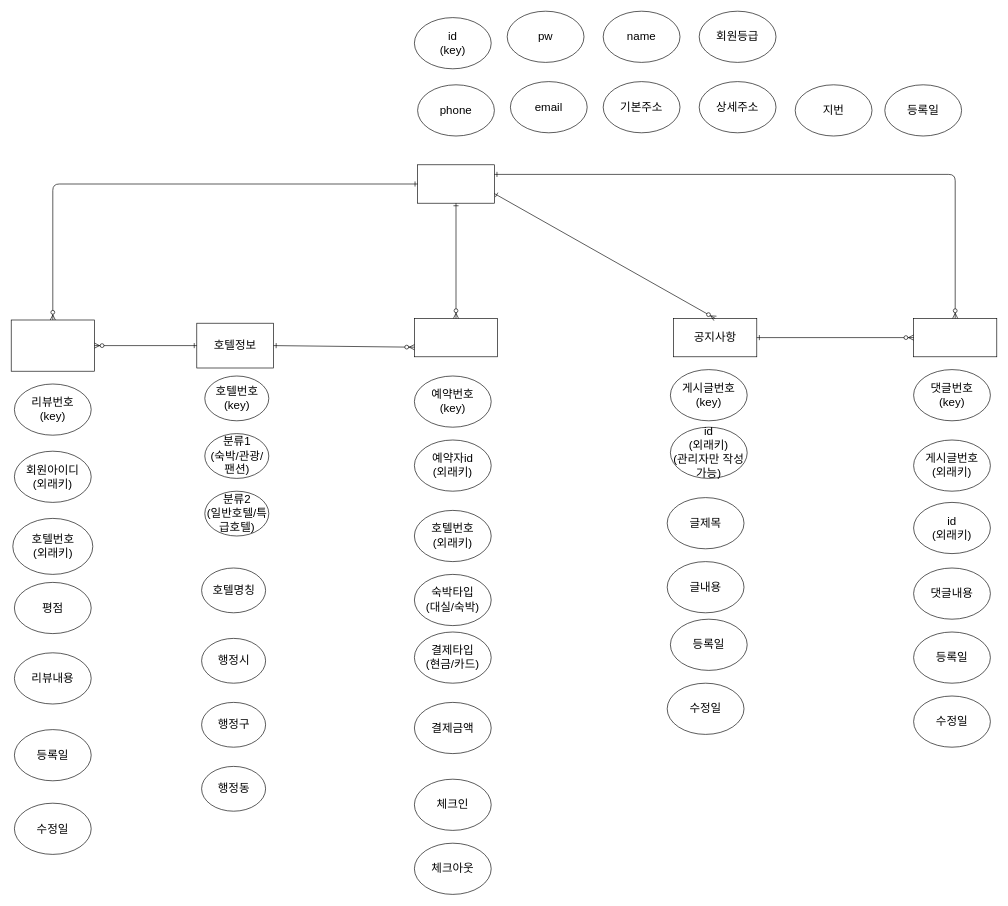
The diagram is 1008 pixels wide and 906 high, and some of its shapes have lost their labels. The shapes that lost their labels are listed below. From the top down, each one's box as (x1, y1, x2, y2) in pixels, then its label:
(417, 164, 494, 203): 회원정보
(11, 319, 94, 371): 리뷰
(414, 318, 498, 357): 예약
(913, 318, 997, 357): 공지사항댓글
